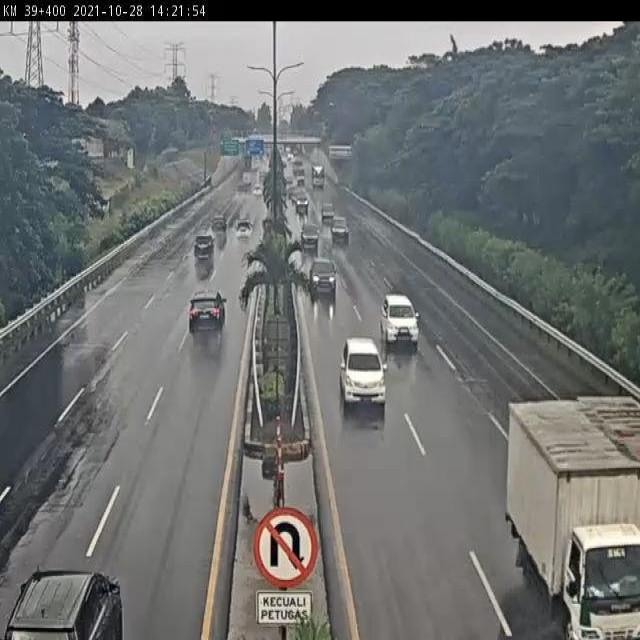car: (339, 339, 386, 408), (380, 295, 421, 348), (187, 291, 227, 340), (308, 256, 338, 299), (191, 233, 214, 266), (232, 219, 256, 245), (300, 221, 321, 248), (329, 213, 349, 240), (208, 212, 228, 237), (294, 191, 311, 216), (320, 198, 336, 222), (249, 183, 265, 200), (234, 177, 248, 196)
truck-m-: (507, 397, 640, 635)
